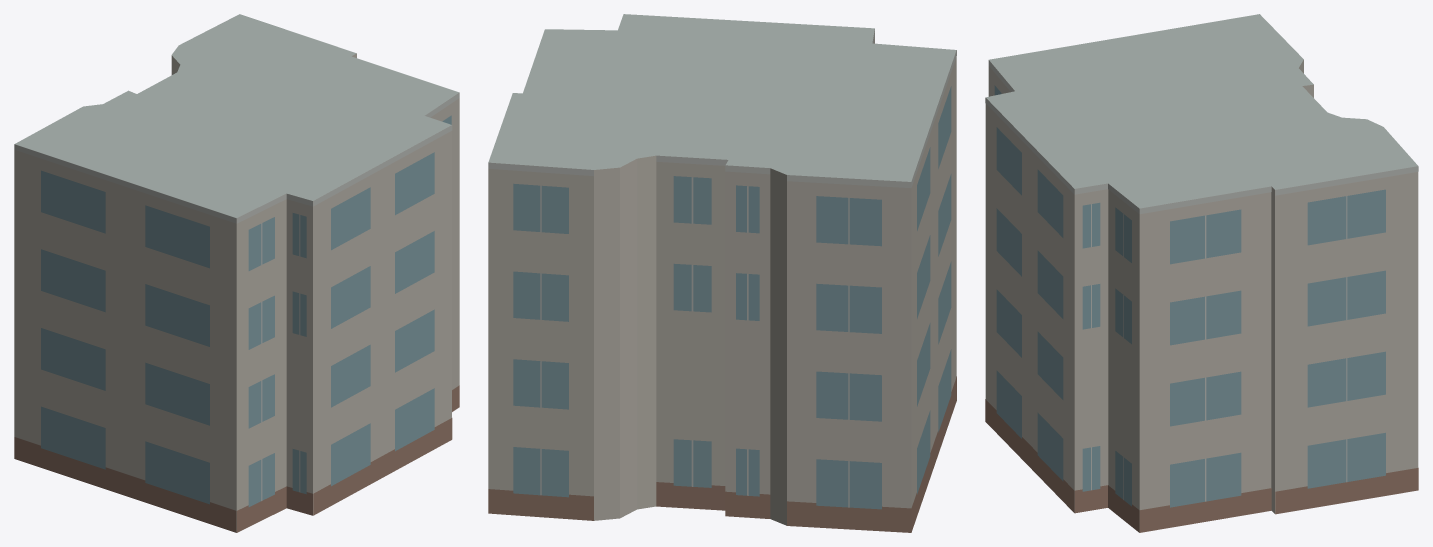
The model's file is survey-upis-32516738.glb.
The picture shows the model from 3 angles, left to right: view 1: azimuth 30°, elevation 25°; view 2: azimuth 150°, elevation 25°; view 3: azimuth 270°, elevation 25°; orthographic projection. The views are drawn at different scales.
Visible parts, largest first — view 1: survey-upis-32516738.tmp; view 2: survey-upis-32516738.tmp; view 3: survey-upis-32516738.tmp.
Part boxes in pixels (left/top/right/bottom): survey-upis-32516738.tmp: left=14, top=14, right=459, bottom=532; survey-upis-32516738.tmp: left=488, top=14, right=956, bottom=532; survey-upis-32516738.tmp: left=985, top=14, right=1418, bottom=532.
Bounding box in the file's own units: 17.77 × 13.8 × 16.71.
